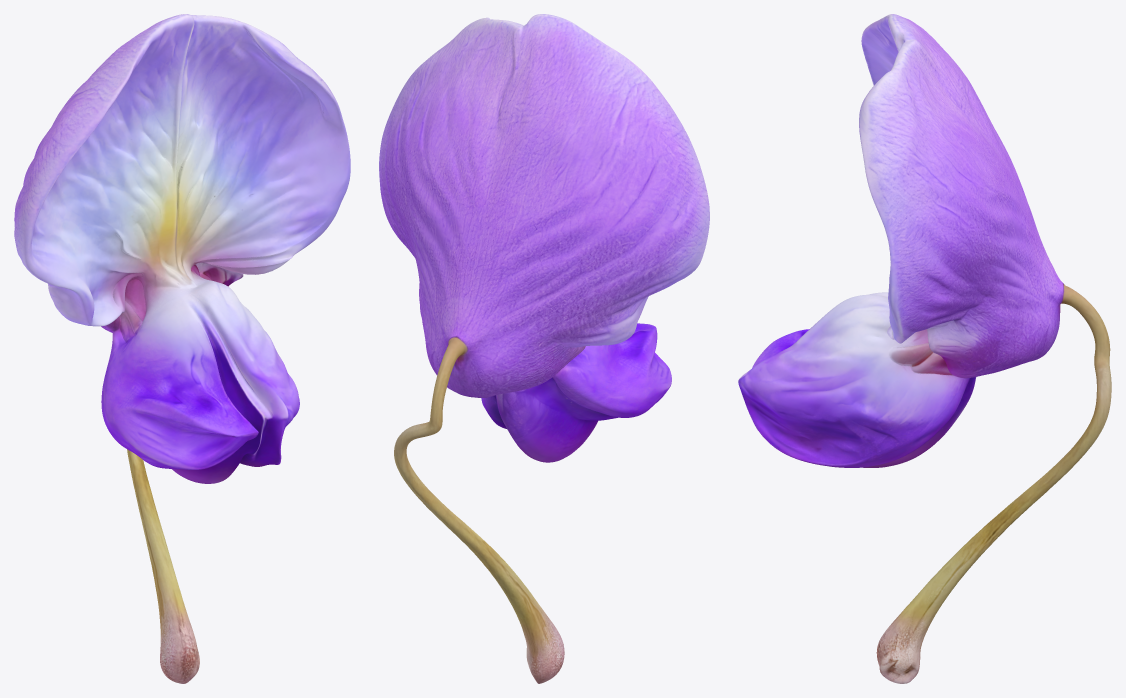
The model's file is wisteria-flower-3D.glb.
3 views of the same model, side by side, from view 1: azimuth 30°, elevation 25°; view 2: azimuth 150°, elevation 25°; view 3: azimuth 270°, elevation 25° (orthographic).
Parts seen in each view (by area): view 1: model; view 2: model; view 3: model.
Boxes of the visible parts, x1,y1,x2,y2 form: model: (14,14,350,683); model: (379,14,709,683); model: (738,14,1111,683).
Size of the model in its own units: 0.0411 by 0.08 by 0.0409.
1 material, 1 textured.
